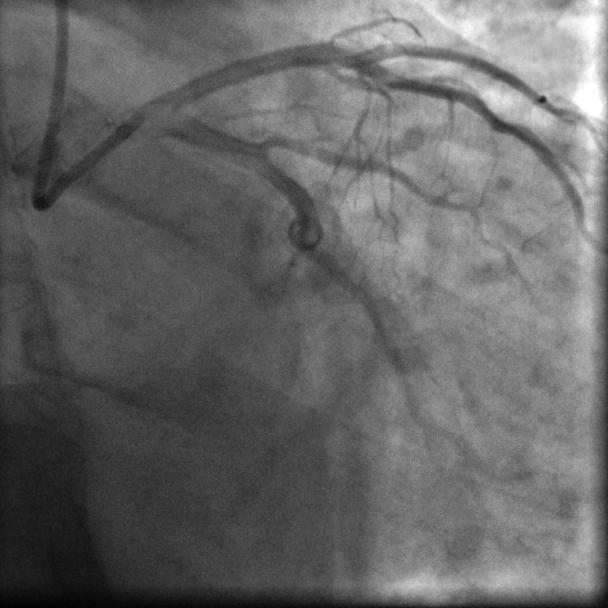Stenosis: (256, 123, 295, 160)
